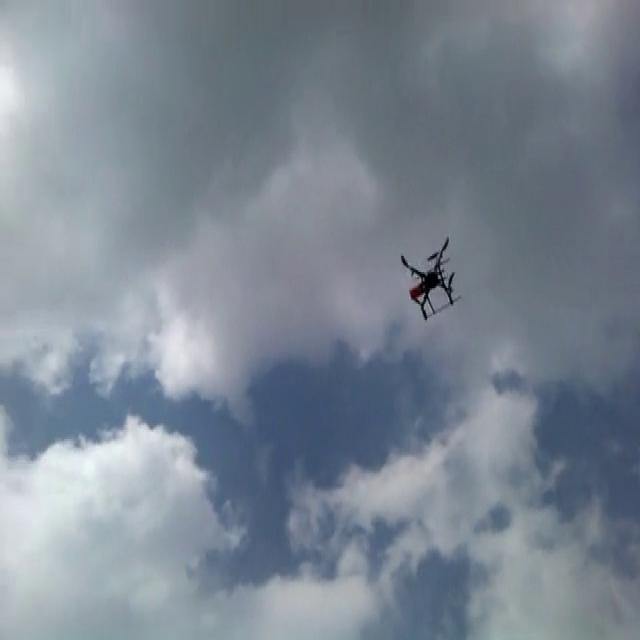drone: (398, 230, 461, 324)
